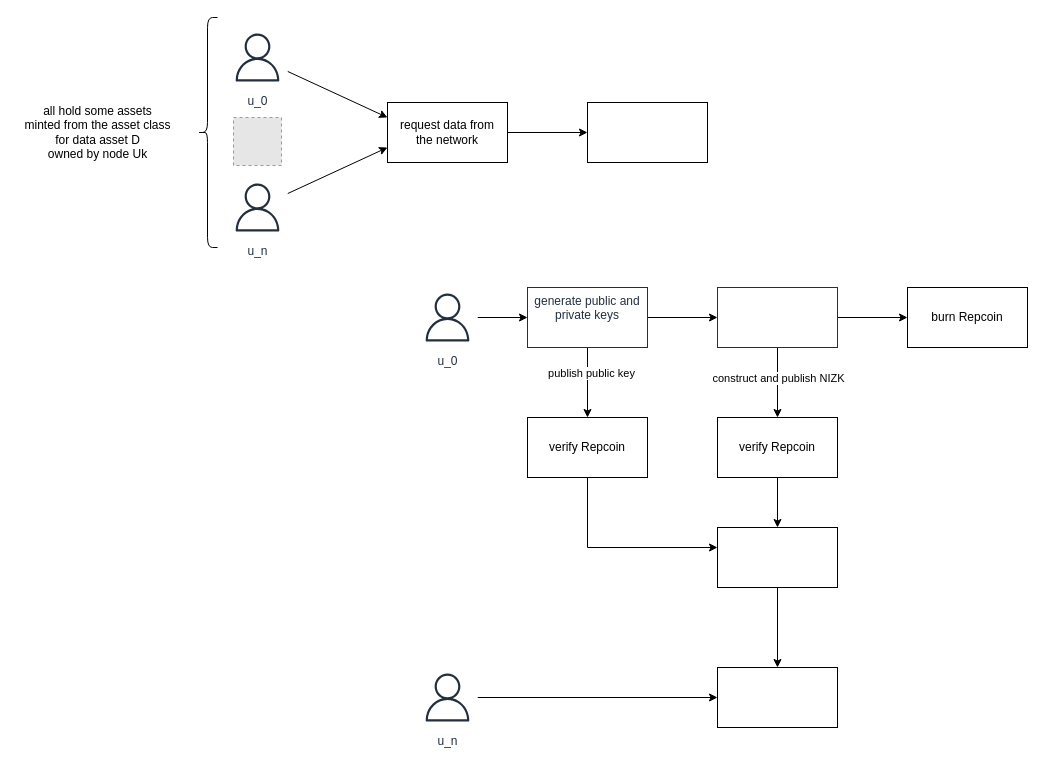
Some shapes in this 1045 by 766 pixel diagram are drawn without their labels. Grey dashed boxes stand in for pictures. The centre of each missing label's shape, as x and y in pixels:
"BULLETIN BOARD" belongs at (x=777, y=557).
"generate crytpogram" belongs at (x=777, y=317).
"Restructure score from cryptogram" belongs at (x=777, y=697).
"reward Repcoin to each U0,...,Un" belongs at (x=647, y=132).
